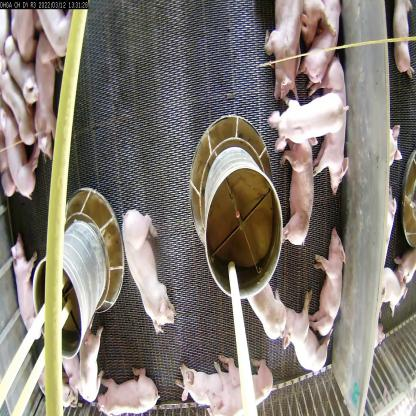Pig: (122, 192, 183, 334), (306, 18, 350, 200), (3, 223, 62, 354), (200, 346, 292, 415), (276, 287, 337, 377), (278, 125, 318, 261), (268, 0, 306, 112), (265, 91, 342, 146), (92, 362, 164, 415), (247, 274, 296, 349), (34, 28, 60, 162), (67, 313, 103, 407), (0, 51, 32, 152), (181, 359, 246, 406), (5, 112, 38, 201), (314, 224, 341, 332), (309, 0, 340, 88)
